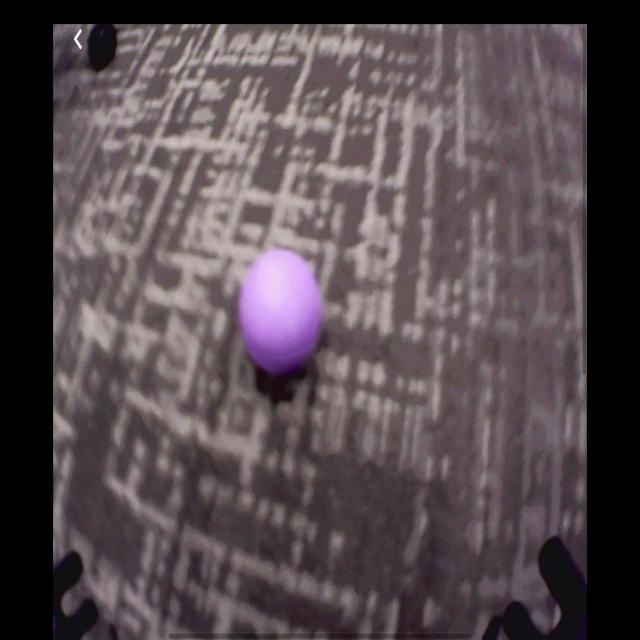ball: (236, 250, 327, 368)
